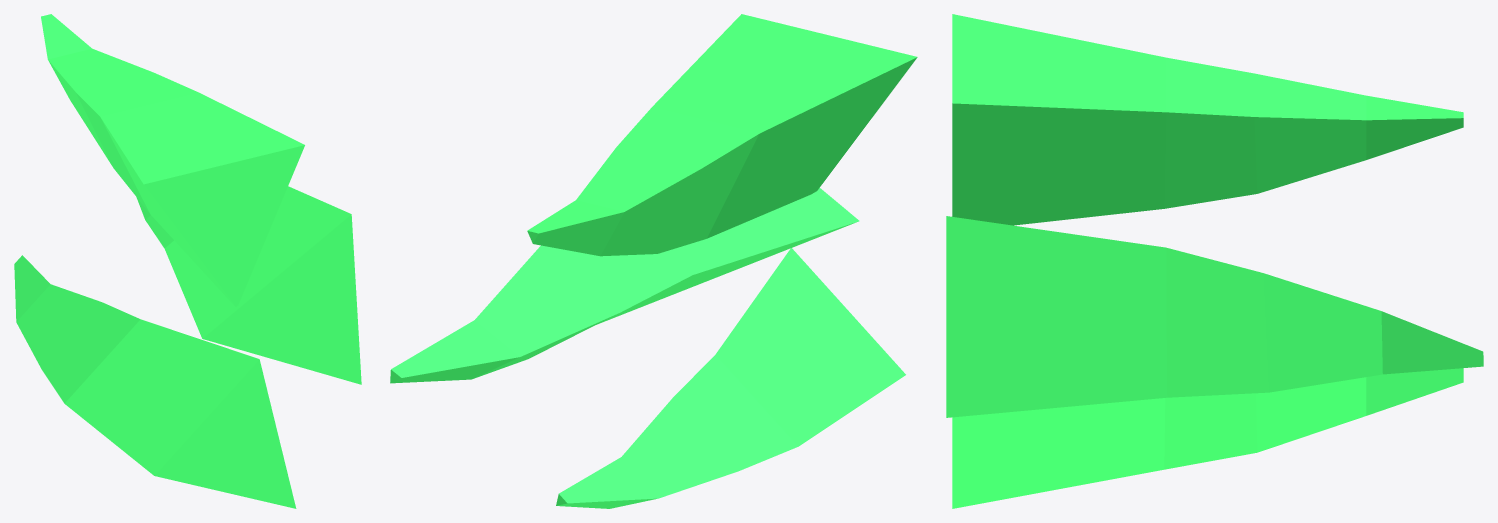
File: Grass_2.fbx
3 views of the same model, side by side, from view 1: azimuth 30°, elevation 25°; view 2: azimuth 150°, elevation 25°; view 3: azimuth 270°, elevation 25° (orthographic). The views are drawn at different scales.
Parts seen in each view (by area): view 1: Grass_2; view 2: Grass_2; view 3: Grass_2.
Part boxes in pixels (x1=…): Grass_2: x1=14, y1=14, x2=361, y2=508; Grass_2: x1=390, y1=14, x2=917, y2=508; Grass_2: x1=946, y1=14, x2=1483, y2=508.
Bounding box in the file's own units: 10.32 × 14.29 × 16.96.
